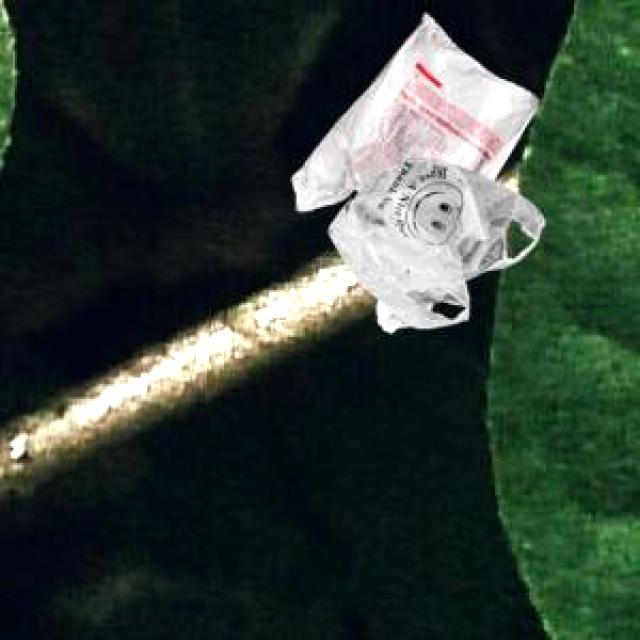Plastic_Bag: (289, 9, 537, 330), (325, 154, 541, 326)
